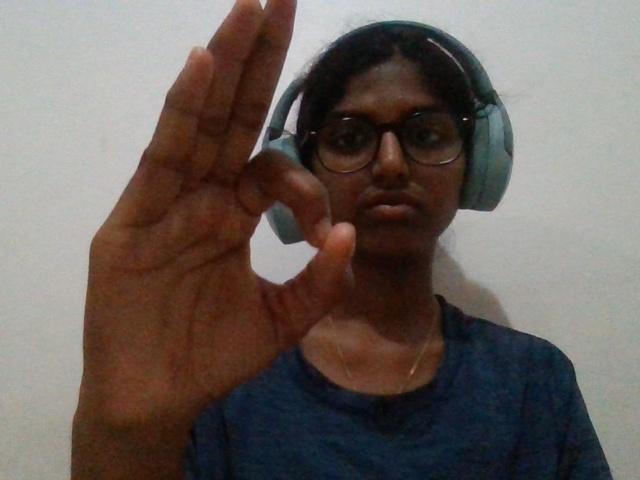F: (61, 1, 372, 480)
